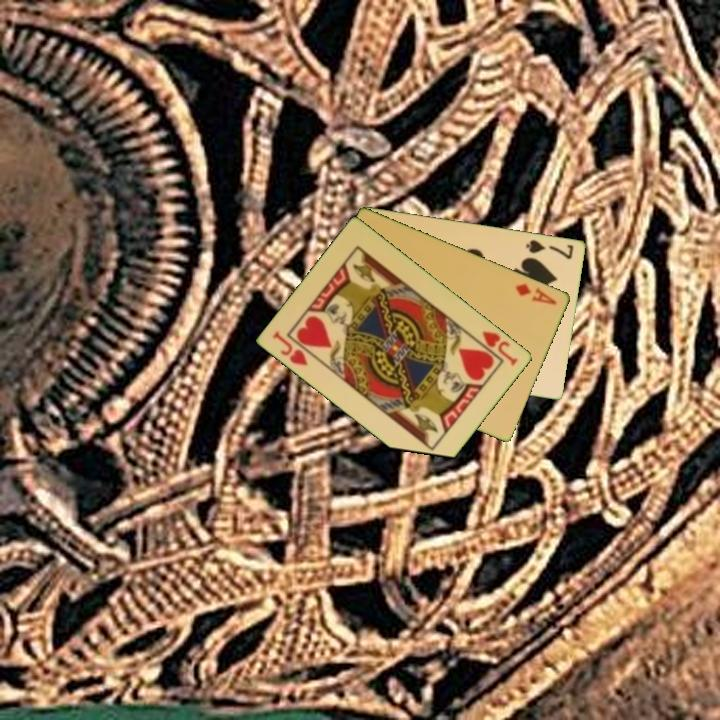7s: (523, 236, 577, 262)
Ad: (512, 280, 560, 308)
Jh: (470, 327, 521, 368), (269, 327, 311, 369)
